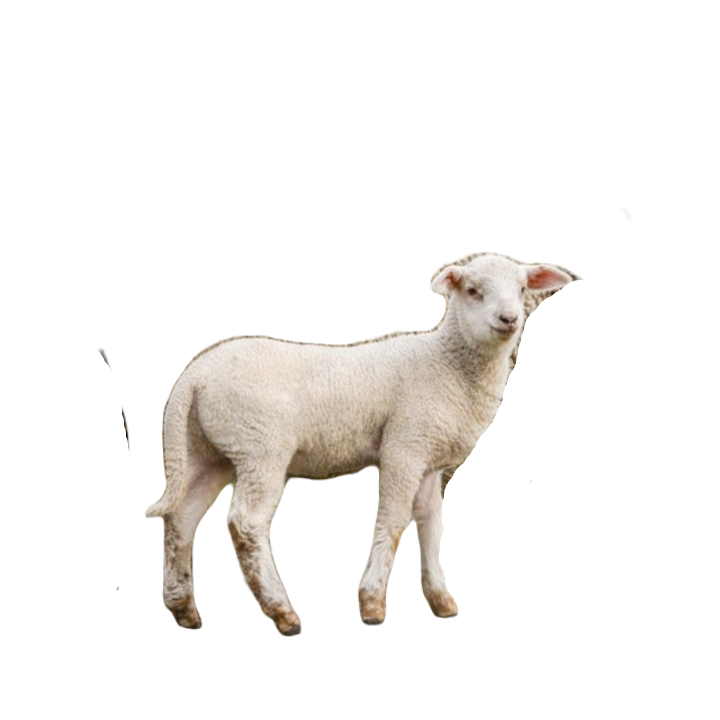Sheep: (141, 245, 577, 641)
